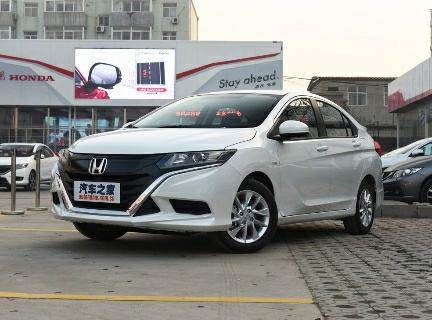car: (45, 84, 387, 257)
